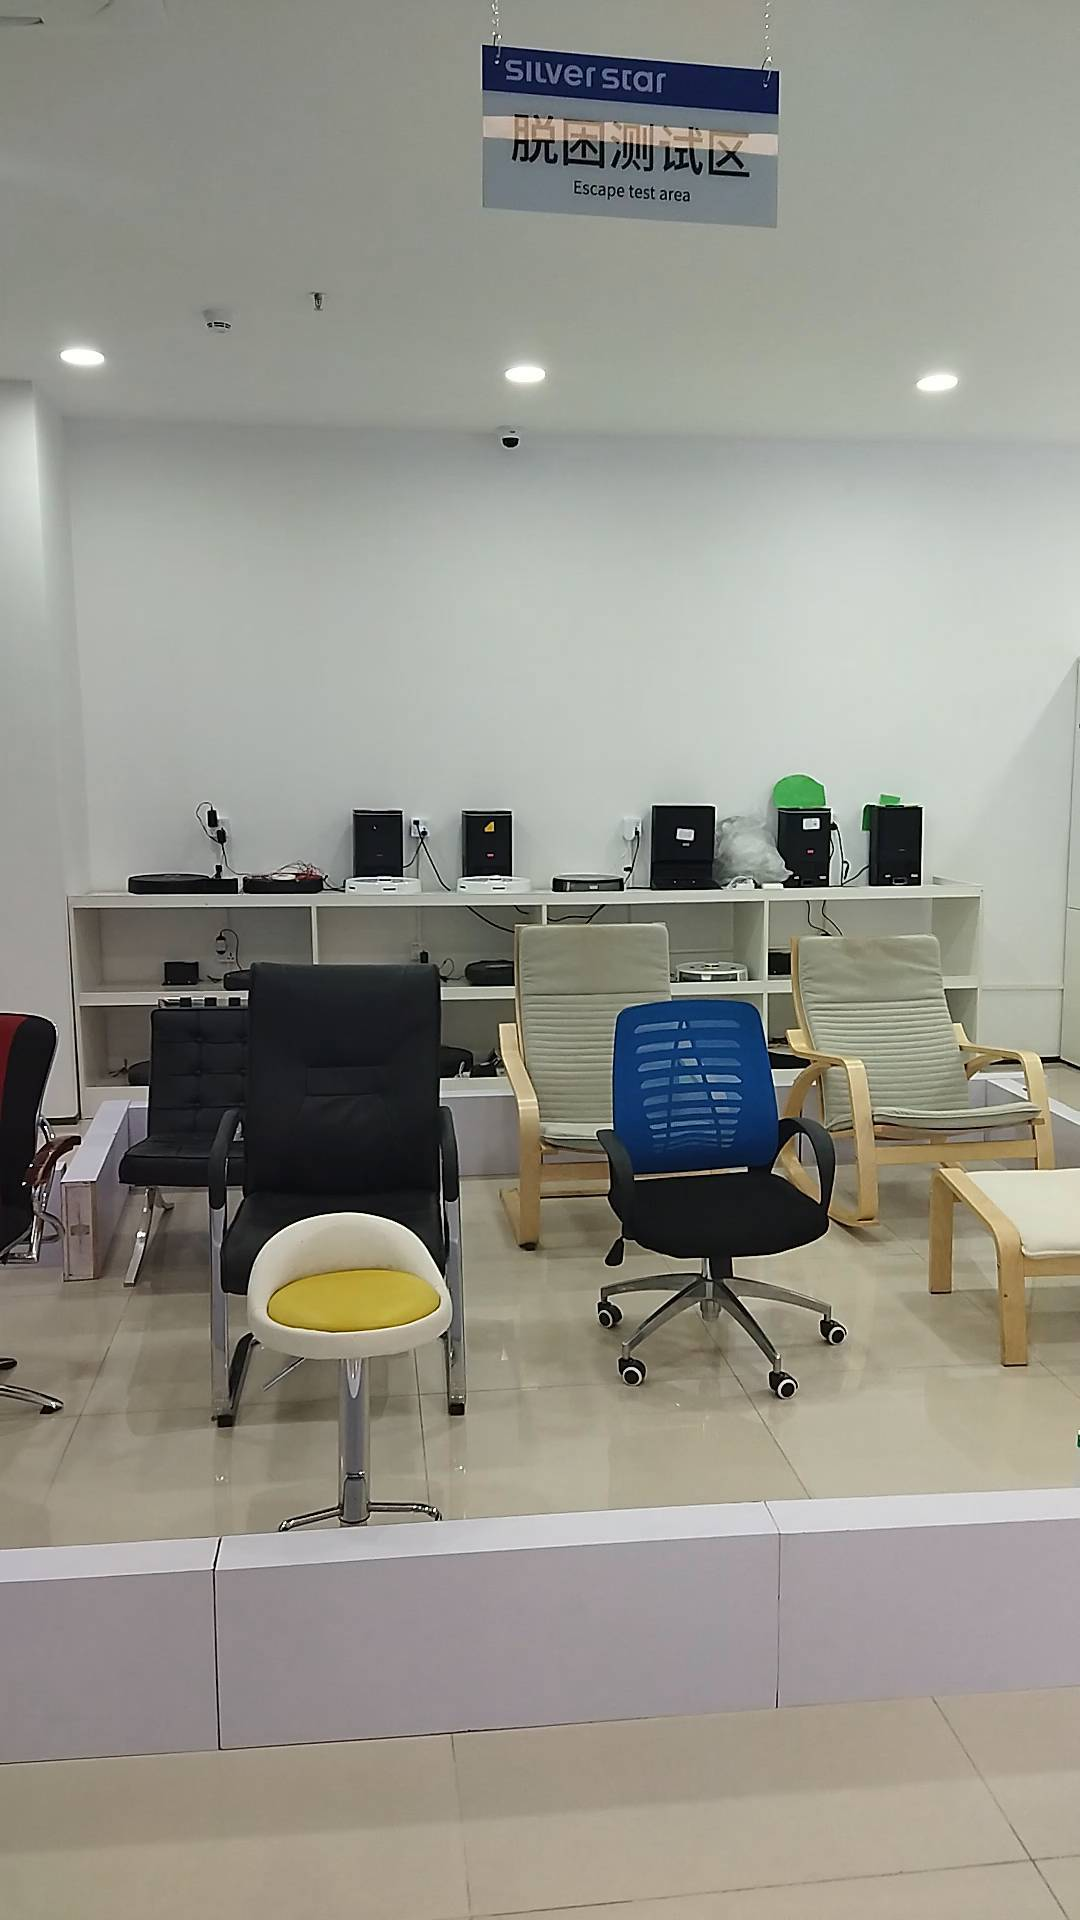dust collecting barrel: (647, 806, 717, 890), (866, 804, 930, 884), (775, 808, 833, 887), (349, 811, 405, 880), (458, 808, 516, 872)
recharge seat: (160, 959, 200, 984)
